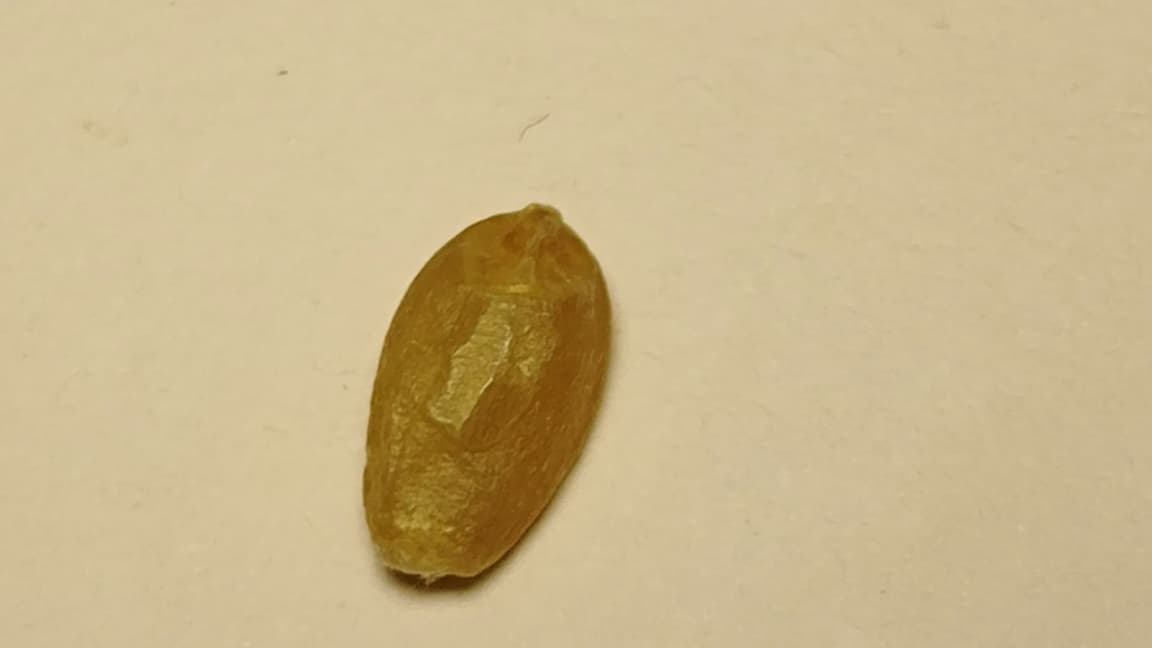healthy: (363, 203, 609, 579)
